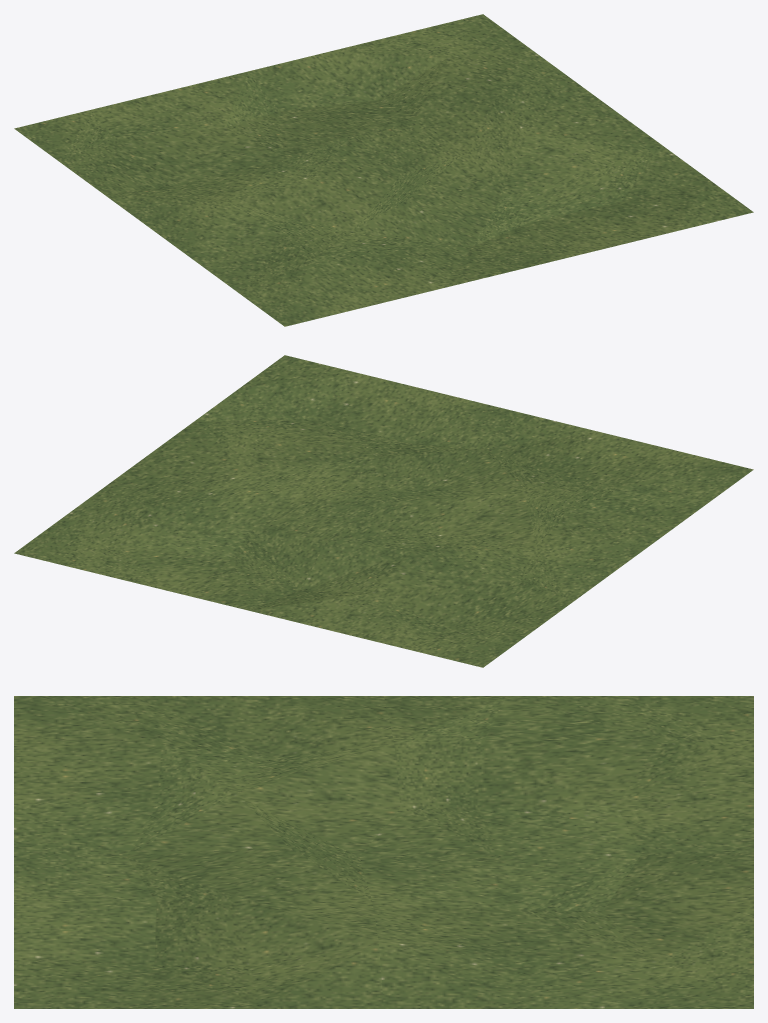
File: ground_cs.obj
The picture shows the model from 3 angles, top to bottom: view 1: azimuth 30°, elevation 25°; view 2: azimuth 150°, elevation 25°; view 3: azimuth 270°, elevation 25°; orthographic projection. The views are drawn at different scales.
Parts seen in each view (by area): view 1: ground_cs; view 2: ground_cs; view 3: ground_cs.
Boxes of the visible parts, bbox=[...] form: ground_cs: bbox=[14, 14, 753, 326]; ground_cs: bbox=[14, 355, 753, 667]; ground_cs: bbox=[14, 696, 753, 1008].
Bounding box in the file's own units: 4 × 0.0888 × 4.
1 material, 1 textured.
